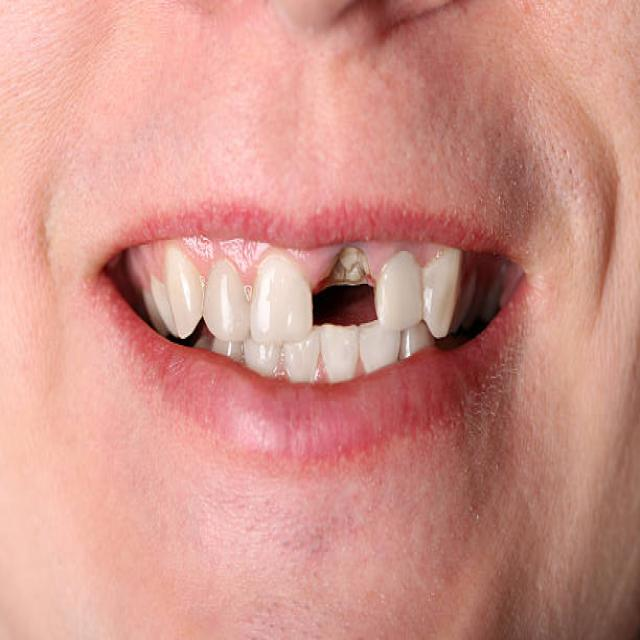caries: (324, 242, 375, 300)
